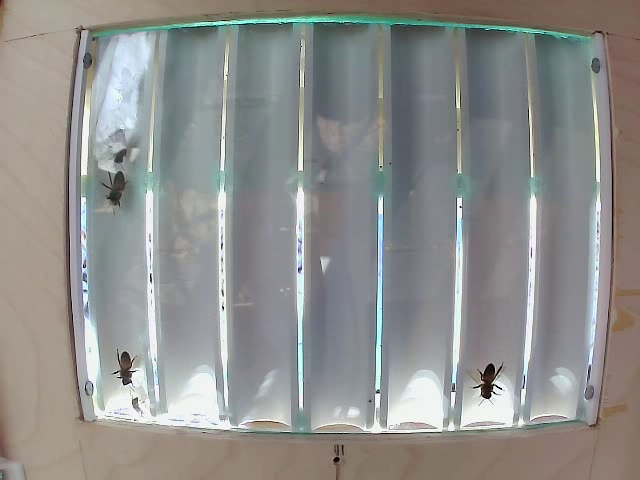bee: (102, 337, 140, 393), (475, 356, 513, 407), (97, 161, 138, 207)
